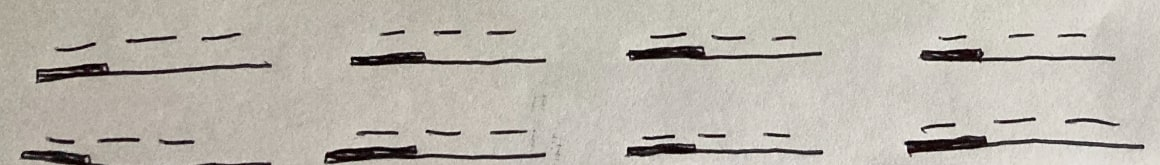tabs: (29, 28, 278, 88), (350, 18, 553, 81), (900, 107, 1148, 158), (916, 23, 1120, 73), (320, 123, 551, 165), (625, 23, 827, 70), (619, 125, 827, 159)
